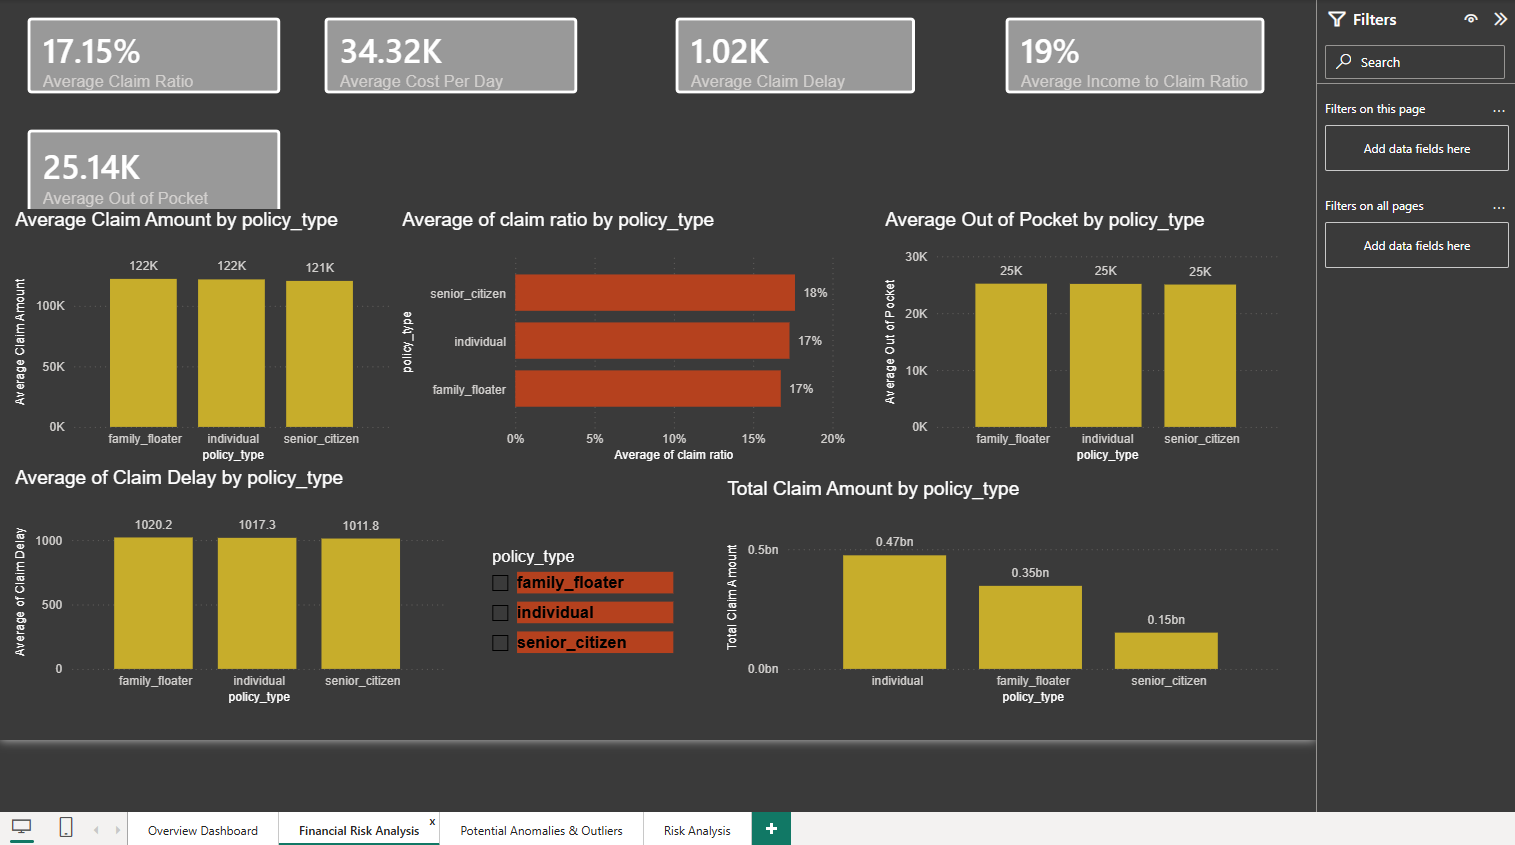

Layout of this report page (visuals, bound fields, positions):
{"tool":"powerbi","page":{"name":"Financial Risk Analysis","canvas":[1280,720],"ordinal":1},"visuals":[{"type":"cardVisual","fields":{"Data":["claims.Average Claim Ratio"]},"box":[9.7,0,280.1,108.9],"z":0},{"type":"cardVisual","fields":{"Data":["claims.Average Cost Per Day"]},"box":[298.6,0,280.1,108.9],"z":1000},{"type":"cardVisual","fields":{"Data":["claims.Average Claim Delay"]},"box":[640,0,267.5,108.9],"z":2000},{"type":"cardVisual","fields":{"Data":["claims.Average Income to Claim Ratio"]},"box":[961,0,286.9,108.9],"z":3000},{"type":"cardVisual","fields":{"Data":["claims.Average Out of Pocket"]},"box":[9.7,108.9,280.1,117.7],"z":4000},{"type":"clusteredColumnChart","fields":{"Category":["claims.policy_type"],"Y":["claims.Total Claim Amount"]},"box":[702.2,464.9,545.7,224.7],"z":5000},{"type":"clusteredColumnChart","fields":{"Category":["claims.policy_type"],"Y":["claims.Average Claim Amount"]},"box":[9.7,203.3,376.4,250.9],"z":6000},{"type":"clusteredBarChart","fields":{"Category":["claims.policy_type"],"Y":["Avg(claims.claim ratio)"]},"box":[386.1,203.3,441.6,250.9],"z":7000},{"type":"clusteredColumnChart","fields":{"Y":["claims.Average Out of Pocket"],"Category":["claims.policy_type"]},"box":[855.9,203.3,392,250.9],"z":8000},{"type":"clusteredColumnChart","fields":{"Category":["claims.policy_type"],"Y":["Avg(claims.Claim Delay)"]},"box":[9.7,454.2,428.9,235.4],"z":9000},{"type":"slicer","fields":{"Values":["claims.policy_type"]},"box":[465.9,527.2,193.6,174.1],"z":10000}]}

Visuals, with their boxes on the page's 1280x720 design canvas (x1, y1, x2, y2). These are canvas units, not pixel positions in the 1515x845 screenshot, which may show the page scaled, cropped or inside an application window:
cardVisual - claims.Average Claim Ratio: <box>10,0,290,109</box>
cardVisual - claims.Average Cost Per Day: <box>299,0,579,109</box>
cardVisual - claims.Average Claim Delay: <box>640,0,908,109</box>
cardVisual - claims.Average Income to Claim Ratio: <box>961,0,1248,109</box>
cardVisual - claims.Average Out of Pocket: <box>10,109,290,227</box>
clusteredColumnChart - claims.policy_type x claims.Total Claim Amount: <box>702,465,1248,690</box>
clusteredColumnChart - claims.policy_type x claims.Average Claim Amount: <box>10,203,386,454</box>
clusteredBarChart - claims.policy_type x Avg(claims.claim ratio): <box>386,203,828,454</box>
clusteredColumnChart - claims.Average Out of Pocket x claims.policy_type: <box>856,203,1248,454</box>
clusteredColumnChart - claims.policy_type x Avg(claims.Claim Delay): <box>10,454,439,690</box>
slicer - claims.policy_type: <box>466,527,660,701</box>
